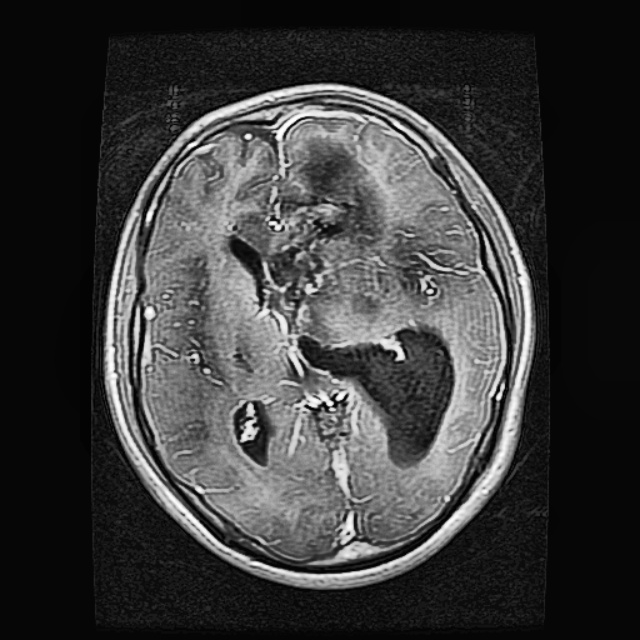Glioma: (232, 132, 390, 283)
